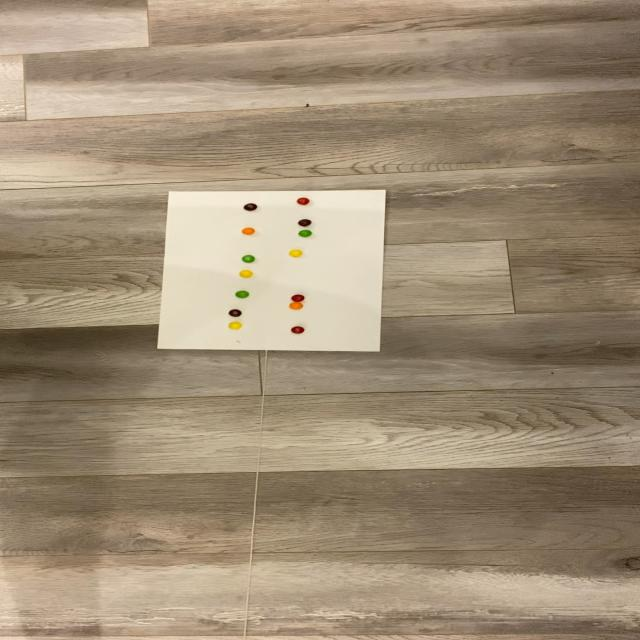smartie: (228, 309, 243, 318), (242, 254, 256, 263), (239, 270, 253, 279), (228, 321, 242, 330), (243, 203, 258, 211), (291, 295, 306, 303), (234, 290, 249, 298), (297, 230, 312, 238), (289, 249, 304, 257), (298, 219, 312, 227), (242, 227, 256, 235), (289, 302, 303, 310), (297, 197, 311, 205), (292, 326, 305, 334)
